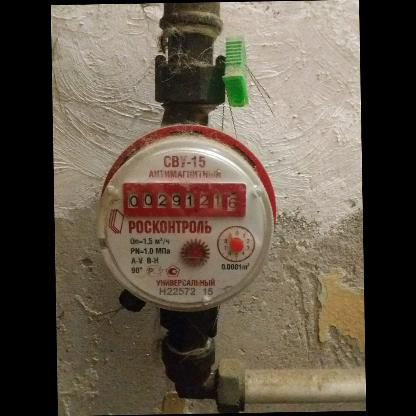digital_screen: (125, 190, 196, 210)
